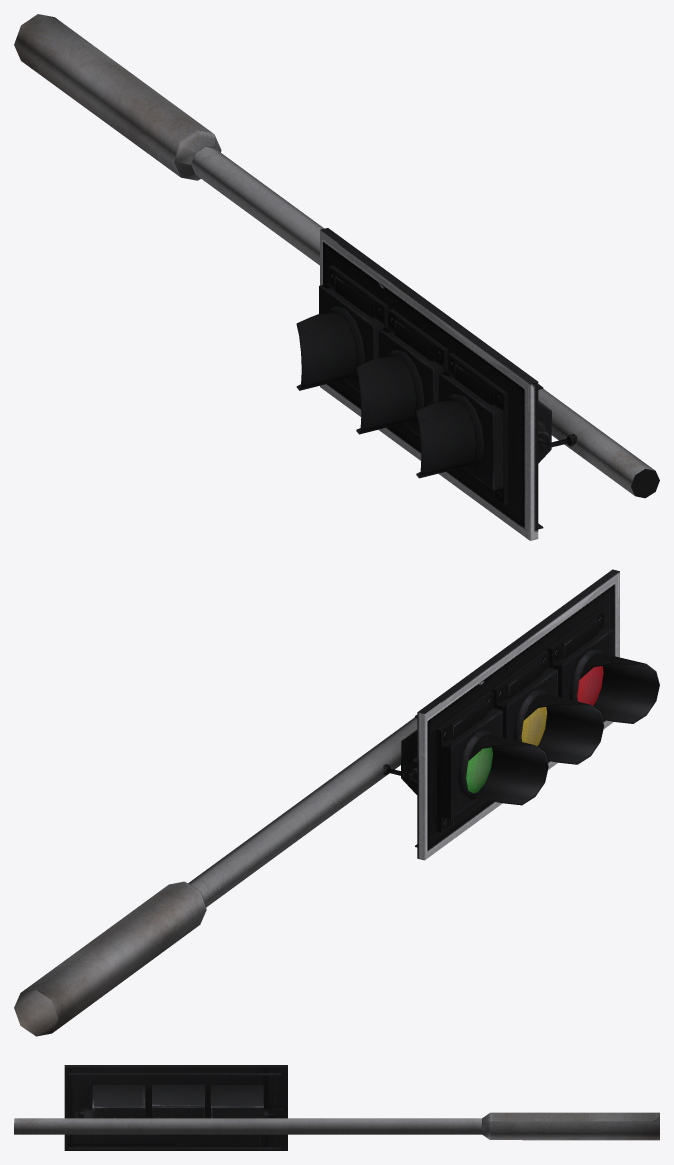
The model's file is trafficL.obj.
3 views of the same model, one above another, from view 1: azimuth 30°, elevation 25°; view 2: azimuth 150°, elevation 25°; view 3: azimuth 270°, elevation 25° (orthographic). The views are drawn at different scales.
Parts seen in each view (by area): view 1: Object19_Object19_Geometry_0; view 2: Object19_Object19_Geometry_0; view 3: Object19_Object19_Geometry_0.
Part boxes in pixels (x1=…): Object19_Object19_Geometry_0: x1=14, y1=14, x2=659, y2=540; Object19_Object19_Geometry_0: x1=14, y1=569, x2=659, y2=1036; Object19_Object19_Geometry_0: x1=14, y1=1065, x2=659, y2=1150.
Bounding box in the file's own units: 47.93 × 43.05 × 301.
Materials: 1 (1 with a texture image).
